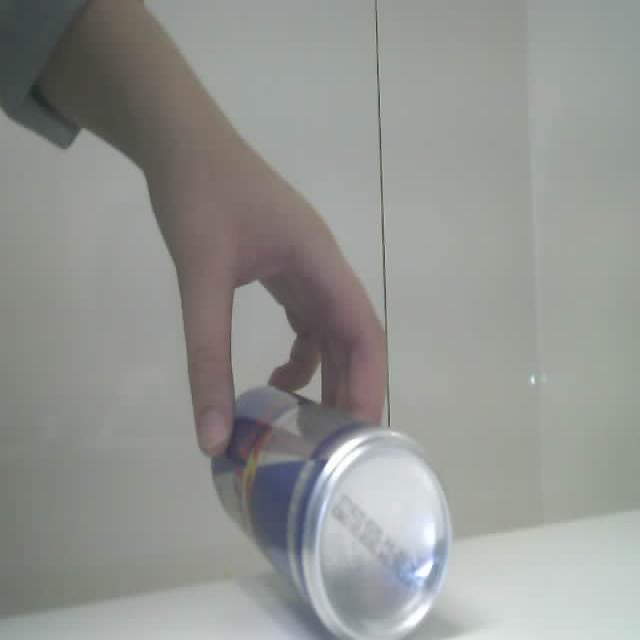redbull can: (212, 387, 450, 639)
